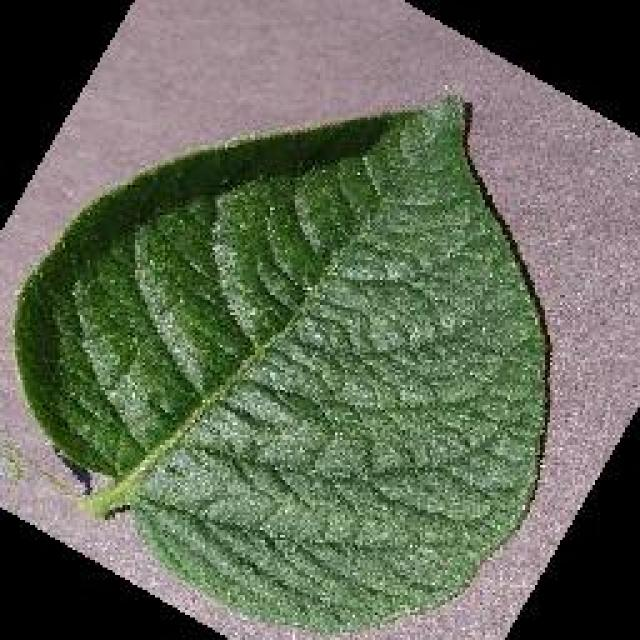Potato___healthy: (9, 82, 553, 636)
